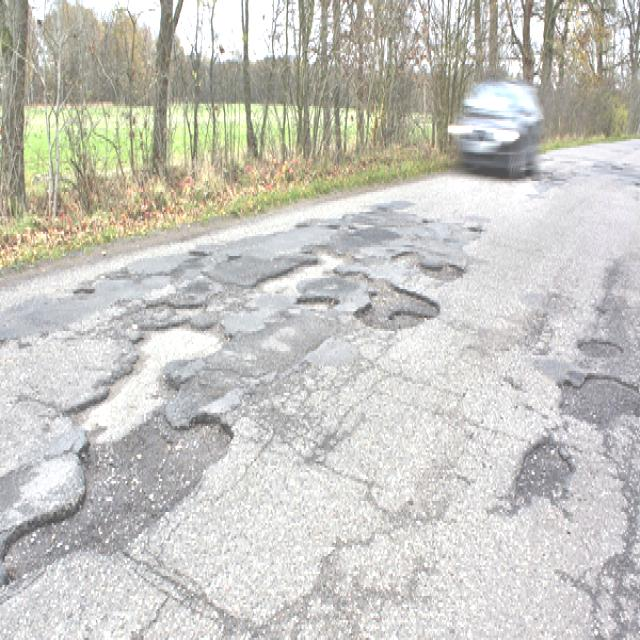Pothole: (22, 251, 439, 487)
